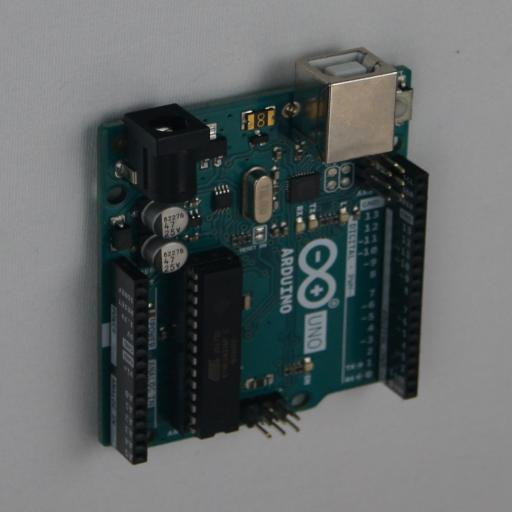Arduino Uno -Green-: (83, 50, 429, 465)
